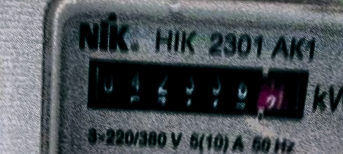0: (100, 68, 114, 97)
2: (152, 69, 171, 96)
3: (179, 69, 196, 98), (208, 69, 223, 97)
4: (126, 68, 143, 96)
6: (234, 75, 249, 102)
screen: (75, 48, 316, 132)
